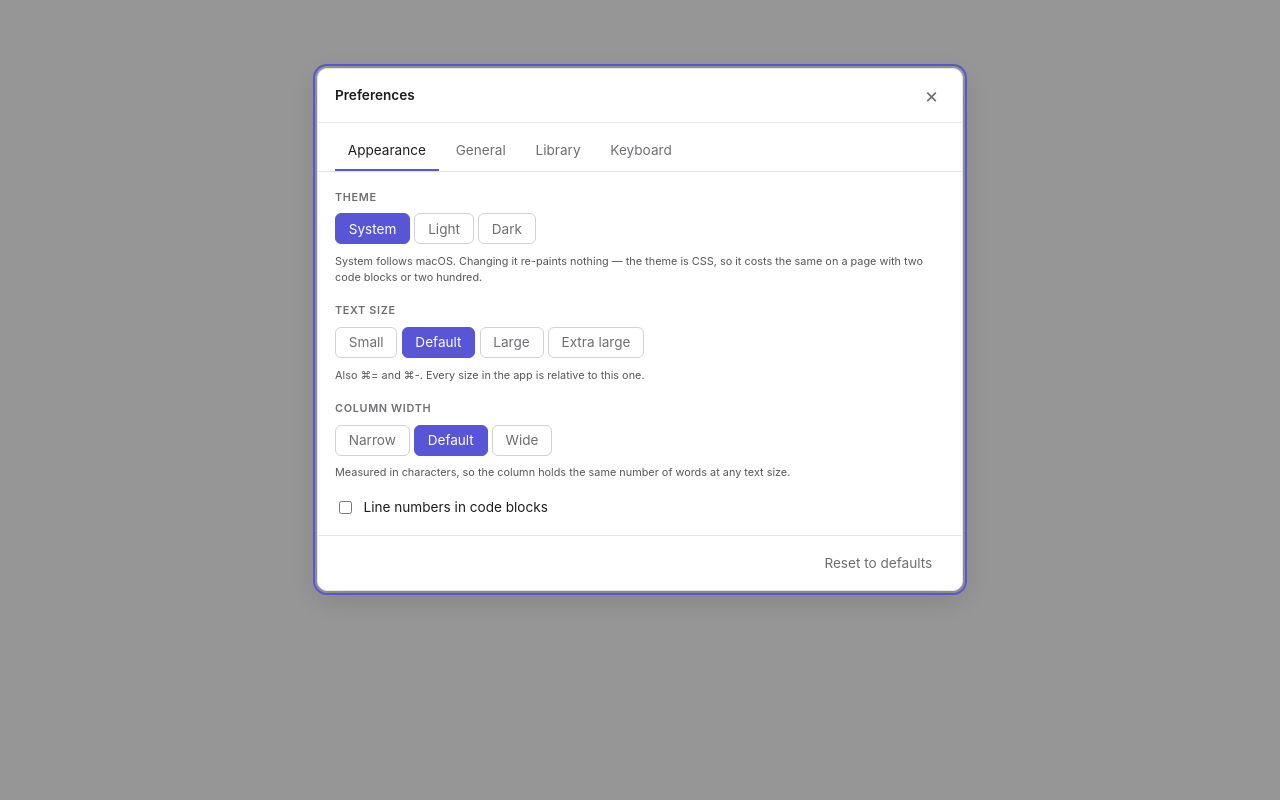
Scenario: Preferences › says shortcuts are not customisable rather than pretending
Click the tab "Keyboard" at (641, 151), box [598,131,684,171]
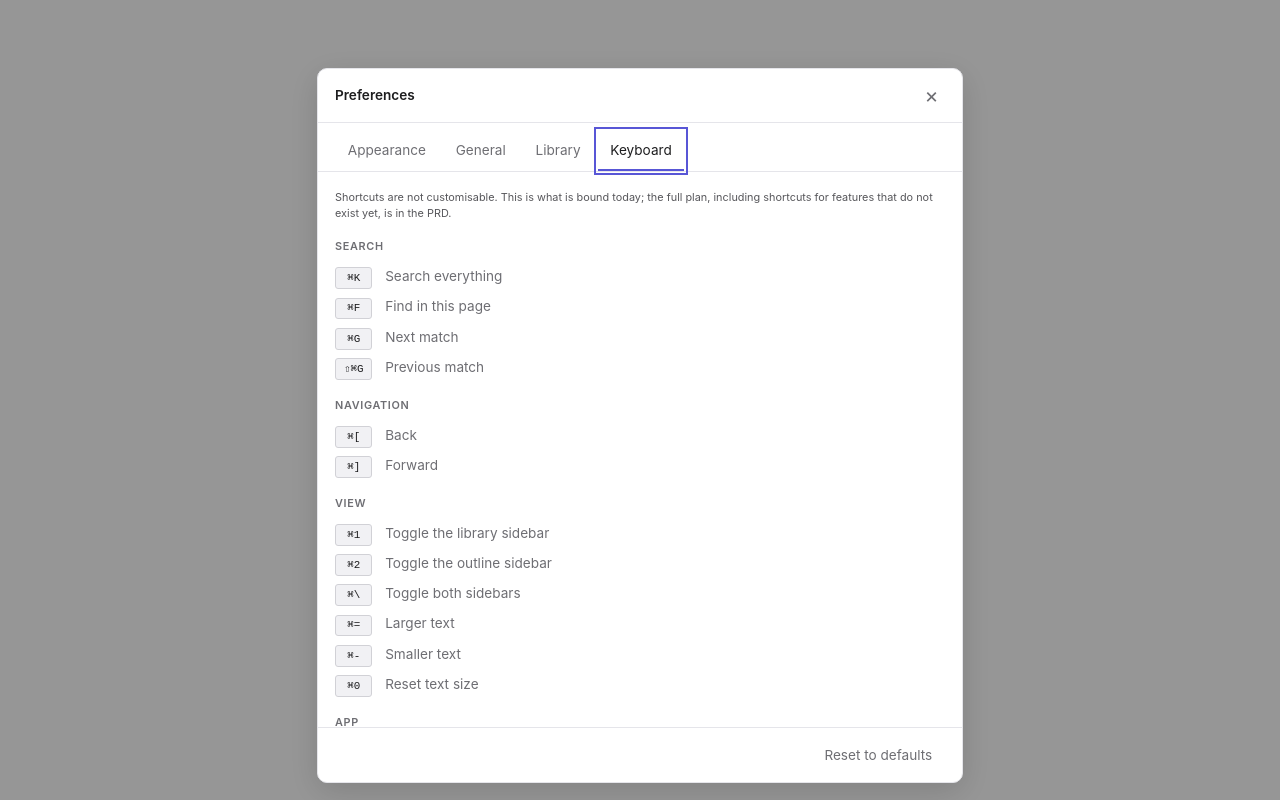
Result: the text "not customisable" is shown at [335,190,933,220]
Result: the text "⌘K" is shown at [335,267,372,289]
